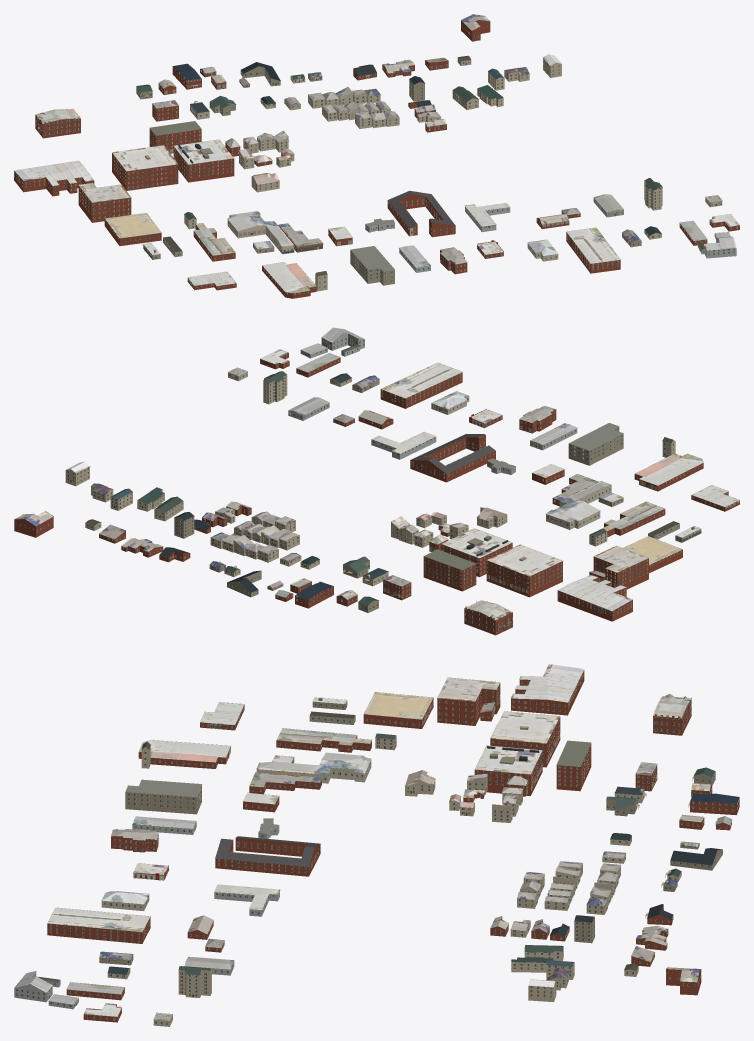
3 renders of one model, top to bottom at view 1: azimuth 30°, elevation 25°; view 2: azimuth 150°, elevation 25°; view 3: azimuth 270°, elevation 25°, orthographic. The views are drawn at different scales.
Parts seen in each view (by area): view 1: 0_0_269018238_0, 0_0_269018541_1, 0_0_269025782_4, 0_0_599496332_28, 0_0_471381640_11, 0_0_451755566_10; view 2: 0_0_269018238_0, 0_0_269018541_1, 0_0_269025782_4, 0_0_599496332_28, 0_0_471381640_11, 0_0_451755566_10; view 3: 0_0_269018238_0, 0_0_269025782_4, 0_0_269018541_1, 0_0_599496332_28, 0_0_471381640_11, 0_0_451755566_10.
Part boxes in pixels (x1=…): 0_0_269018238_0: x1=14, y1=14, x2=739, y2=298; 0_0_269018541_1: x1=37, y1=38, x2=699, y2=291; 0_0_269025782_4: x1=37, y1=56, x2=704, y2=275; 0_0_599496332_28: x1=136, y1=66, x2=641, y2=285; 0_0_471381640_11: x1=365, y1=198, x2=736, y2=272; 0_0_451755566_10: x1=227, y1=197, x2=722, y2=261; 0_0_269018238_0: x1=14, y1=327, x2=739, y2=635; 0_0_269018541_1: x1=65, y1=351, x2=692, y2=629; 0_0_269025782_4: x1=85, y1=344, x2=679, y2=626; 0_0_599496332_28: x1=174, y1=380, x2=700, y2=612; 0_0_471381640_11: x1=288, y1=332, x2=577, y2=474; 0_0_451755566_10: x1=228, y1=371, x2=611, y2=622; 0_0_269018238_0: x1=14, y1=664, x2=739, y2=1024; 0_0_269025782_4: x1=38, y1=694, x2=738, y2=981; 0_0_269018541_1: x1=76, y1=680, x2=681, y2=1016; 0_0_599496332_28: x1=99, y1=701, x2=722, y2=965; 0_0_471381640_11: x1=14, y1=821, x2=279, y2=1009; 0_0_451755566_10: x1=101, y1=756, x2=371, y2=1026.
Bounding box in the file's own units: 533 × 42.9 × 513.
24 materials, 1 textured.
